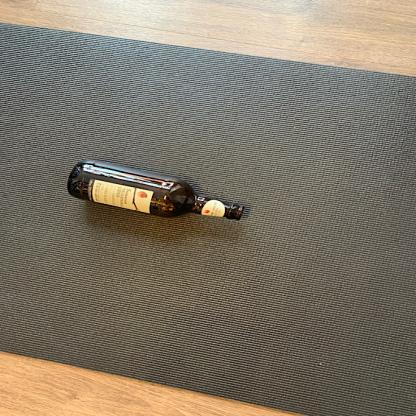trash: (64, 158, 252, 225)
